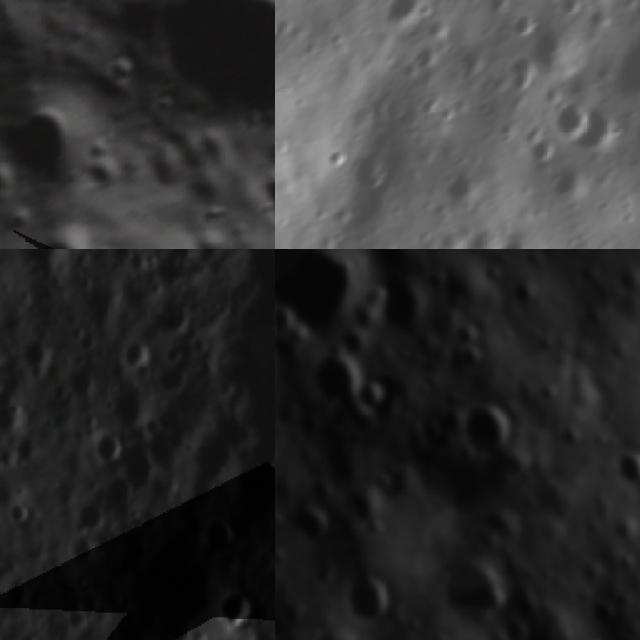crater: (117, 0, 275, 172), (0, 69, 129, 229), (215, 308, 275, 474), (275, 249, 378, 334), (440, 548, 516, 634), (368, 277, 434, 341), (460, 399, 522, 464), (14, 208, 111, 249), (101, 379, 157, 433), (249, 141, 275, 249), (344, 569, 395, 623), (289, 498, 335, 554), (112, 434, 157, 491), (544, 94, 591, 142), (581, 100, 625, 150), (12, 324, 58, 369), (197, 507, 240, 555), (149, 290, 195, 334), (216, 582, 258, 630), (610, 29, 640, 95), (58, 355, 100, 398), (612, 438, 640, 502), (234, 249, 275, 292), (9, 249, 66, 279), (94, 46, 134, 88), (83, 427, 127, 465), (68, 496, 112, 534), (114, 330, 154, 371), (351, 376, 393, 413), (483, 224, 545, 249), (495, 4, 534, 43), (97, 472, 138, 509), (183, 220, 235, 249), (584, 594, 623, 630), (63, 528, 100, 565), (372, 0, 437, 21), (498, 51, 538, 85), (7, 429, 43, 466), (453, 35, 488, 73), (408, 38, 447, 69), (458, 345, 487, 378), (0, 395, 20, 438), (449, 316, 476, 345), (319, 140, 347, 167), (84, 630, 129, 640), (479, 0, 510, 11)
